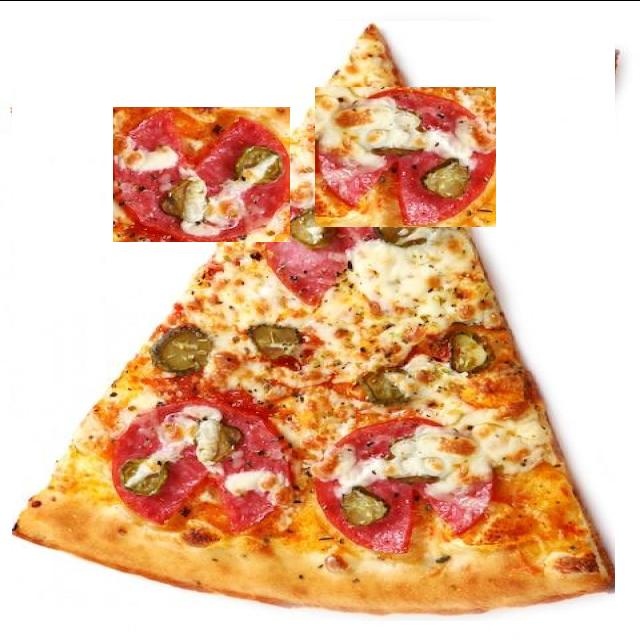pepperoni: (315, 86, 496, 226), (113, 106, 290, 241), (270, 335, 378, 439)
pizza: (12, 19, 615, 620)
